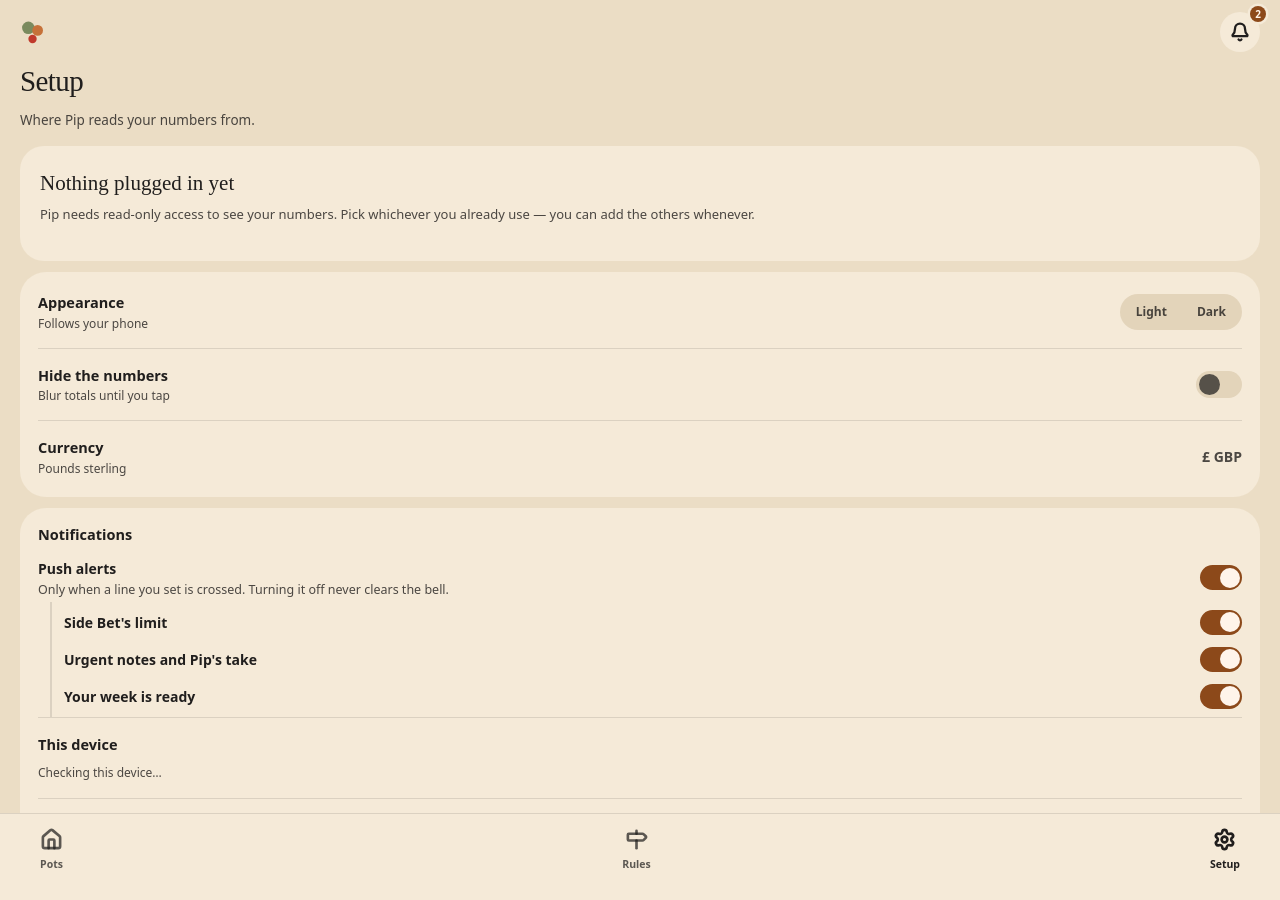
the bell › opens where a row came from, and marks it read
Click the button named "Notifications, 2 unread" at (1240, 32), box left=1220, top=12, right=1260, bottom=52
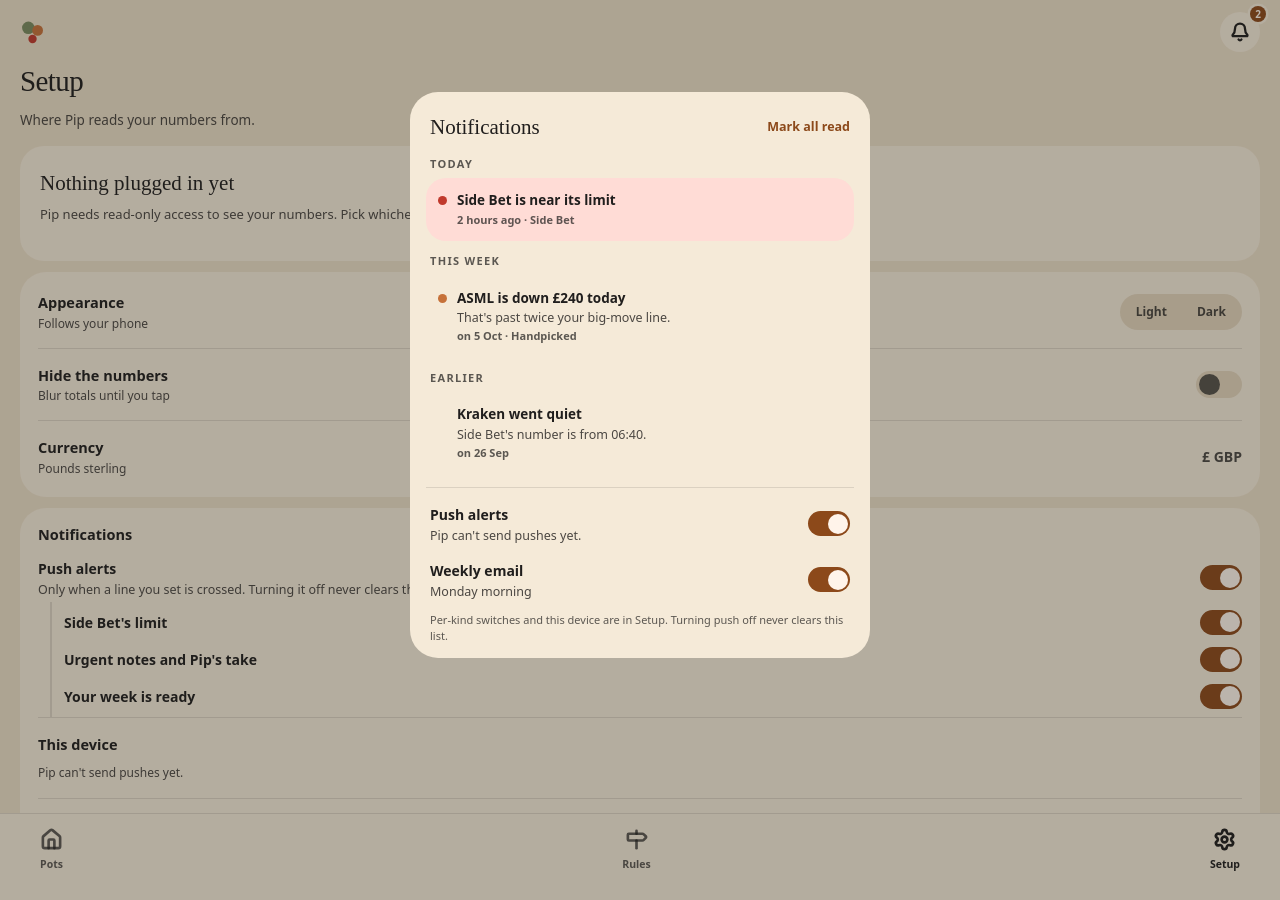
Click the button "Side Bet is near its limit 2 hours ago · Side Bet" at (536, 200), box left=426, top=178, right=854, bottom=241
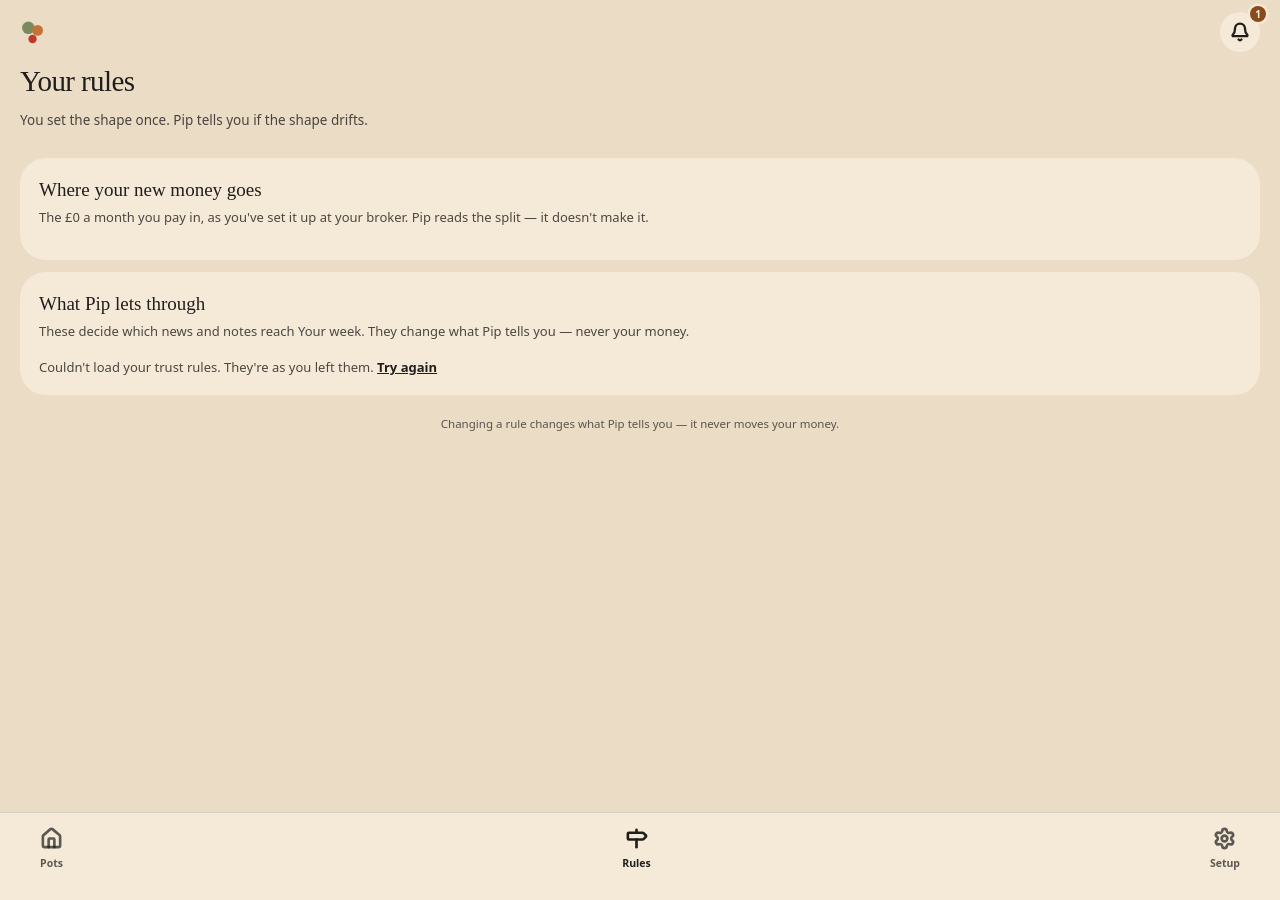
Expected: the heading "Notifications" is gone
